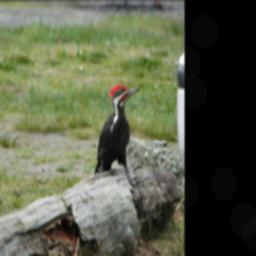Woodpecker: (93, 78, 140, 181)
